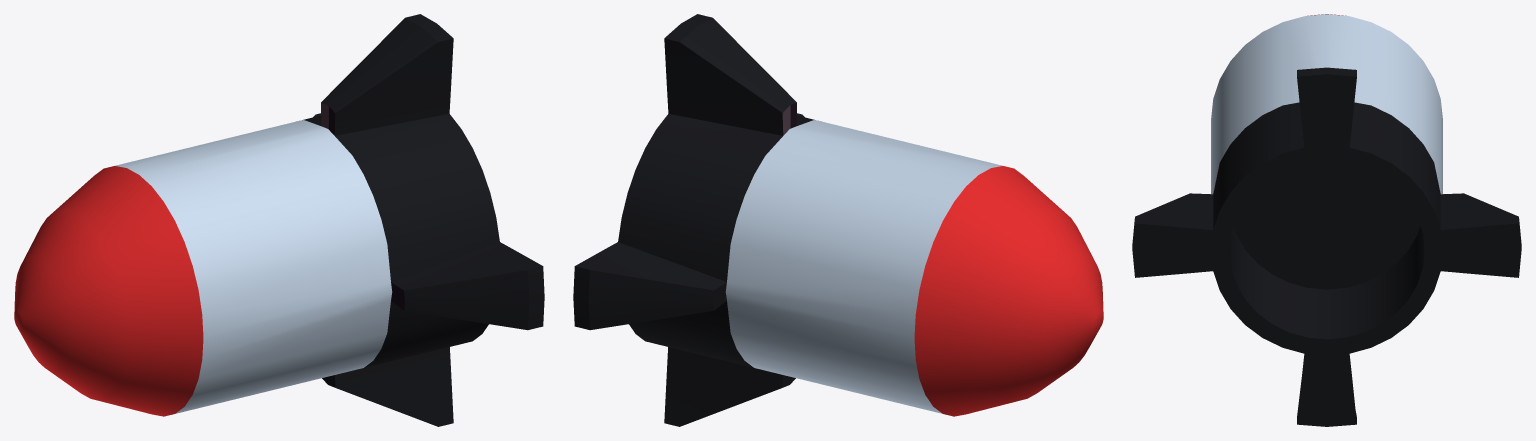
Rendered from bomb.fbx.
3 renders of one model, left to right at view 1: azimuth 30°, elevation 25°; view 2: azimuth 150°, elevation 25°; view 3: azimuth 270°, elevation 25°, orthographic. The views are drawn at different scales.
Parts seen in each view (by area): view 1: Cylinder; view 2: Cylinder; view 3: Cylinder.
Part boxes in pixels (box(x1,y1,x2,y2)): Cylinder: box(14, 14, 544, 426); Cylinder: box(573, 14, 1103, 426); Cylinder: box(1132, 14, 1521, 426).
Bounding box in the file's own units: 7.66 × 6.83 × 6.83.
Materials: 1 (1 with a texture image).
